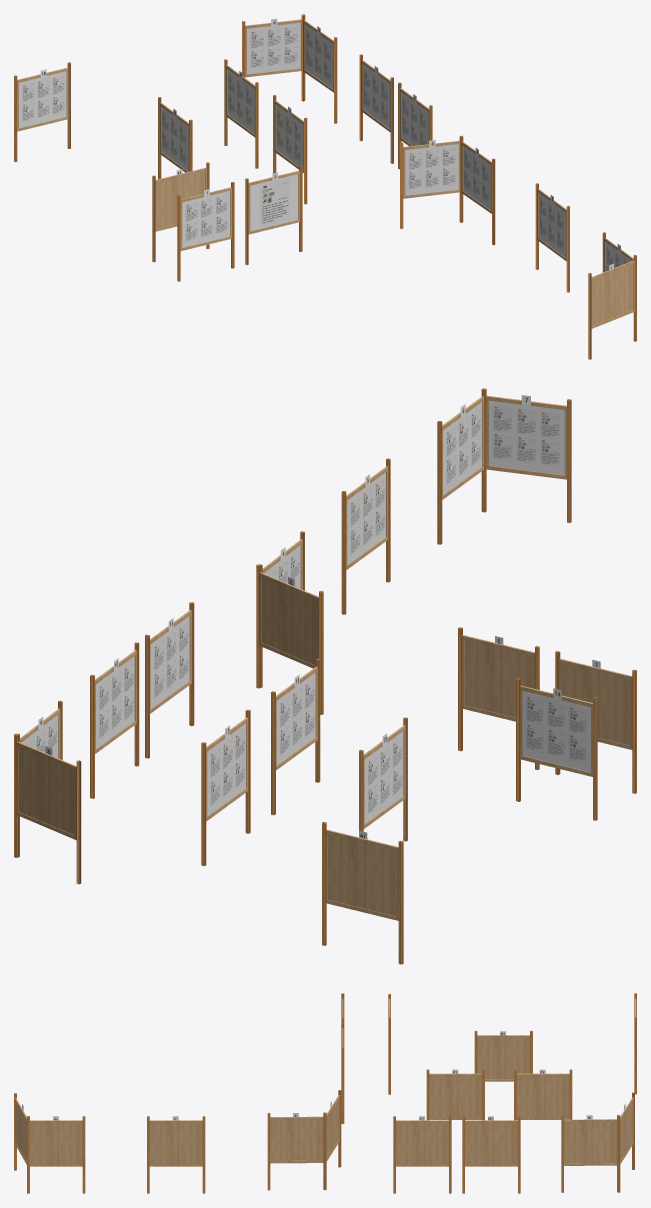
File: Planks_02_5Jan.glb
3 views of the same model, one above another, from view 1: azimuth 30°, elevation 25°; view 2: azimuth 150°, elevation 25°; view 3: azimuth 270°, elevation 25° (orthographic). The views are drawn at different scales.
Visible parts, largest first — view 1: polySurface63, polySurface73, polySurface67, polySurface81, polySurface76, polySurface64, polySurface86, polySurface65, polySurface78, polySurface88, polySurface43, polySurface90 (+7 smaller); view 2: polySurface67, polySurface85, polySurface81, polySurface73, polySurface43, polySurface63, polySurface9, polySurface86, polySurface78, polySurface80, polySurface88, polySurface65 (+4 smaller); view 3: polySurface65, polySurface66, polySurface64, polySurface78, polySurface80, polySurface76, polySurface88, polySurface86, polySurface90, polySurface63, polySurface73, polySurface67 (+3 smaller).
Part boxes in pixels (bbox=[...]): polySurface63: bbox=[400, 135, 462, 228]; polySurface73: bbox=[242, 14, 305, 100]; polySurface67: bbox=[588, 255, 635, 359]; polySurface81: bbox=[152, 162, 209, 262]; polySurface76: bbox=[301, 14, 337, 123]; polySurface64: bbox=[459, 136, 495, 244]; polySurface86: bbox=[224, 59, 258, 168]; polySurface65: bbox=[535, 183, 569, 292]; polySurface78: bbox=[359, 54, 393, 163]; polySurface88: bbox=[273, 95, 307, 204]; polySurface43: bbox=[245, 165, 302, 265]; polySurface90: bbox=[158, 97, 192, 179]; polySurface67: bbox=[482, 388, 571, 523]; polySurface85: bbox=[322, 822, 403, 964]; polySurface81: bbox=[516, 678, 597, 820]; polySurface73: bbox=[14, 734, 81, 884]; polySurface43: bbox=[458, 627, 539, 769]; polySurface63: bbox=[256, 564, 323, 714]; polySurface9: bbox=[555, 651, 636, 793]; polySurface86: bbox=[201, 709, 250, 866]; polySurface78: bbox=[90, 642, 139, 798]; polySurface80: bbox=[145, 602, 194, 758]; polySurface88: bbox=[271, 659, 320, 815]; polySurface65: bbox=[341, 458, 390, 614]; polySurface65: bbox=[147, 1116, 205, 1193]; polySurface66: bbox=[27, 1116, 85, 1193]; polySurface64: bbox=[267, 1112, 325, 1190]; polySurface78: bbox=[462, 1116, 520, 1193]; polySurface80: bbox=[393, 1116, 451, 1193]; polySurface76: bbox=[561, 1115, 619, 1192]; polySurface88: bbox=[426, 1069, 484, 1120]; polySurface86: bbox=[514, 1069, 572, 1120]; polySurface90: bbox=[474, 1031, 532, 1081]; polySurface63: bbox=[323, 1090, 341, 1189]; polySurface73: bbox=[618, 1092, 634, 1192]; polySurface67: bbox=[14, 1093, 29, 1193].
Bounding box in the file's own units: 3.01 × 0.8679 × 6.39.
20 materials, 19 textured.
